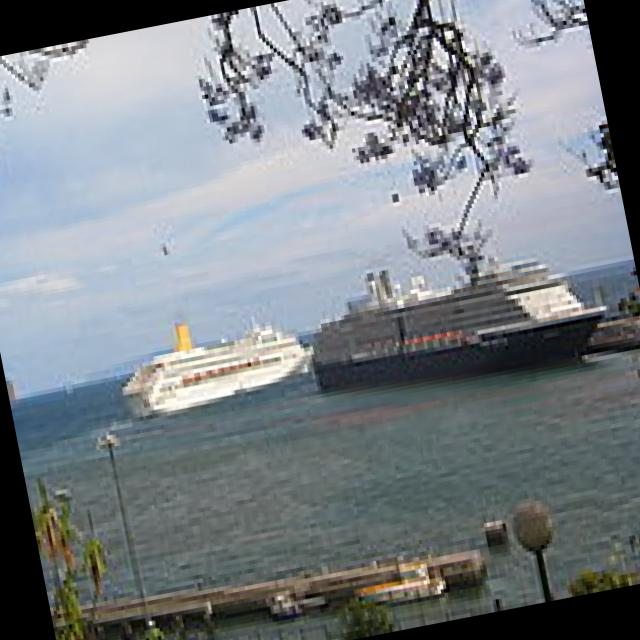boat: (304, 238, 617, 414), (113, 309, 317, 430)
